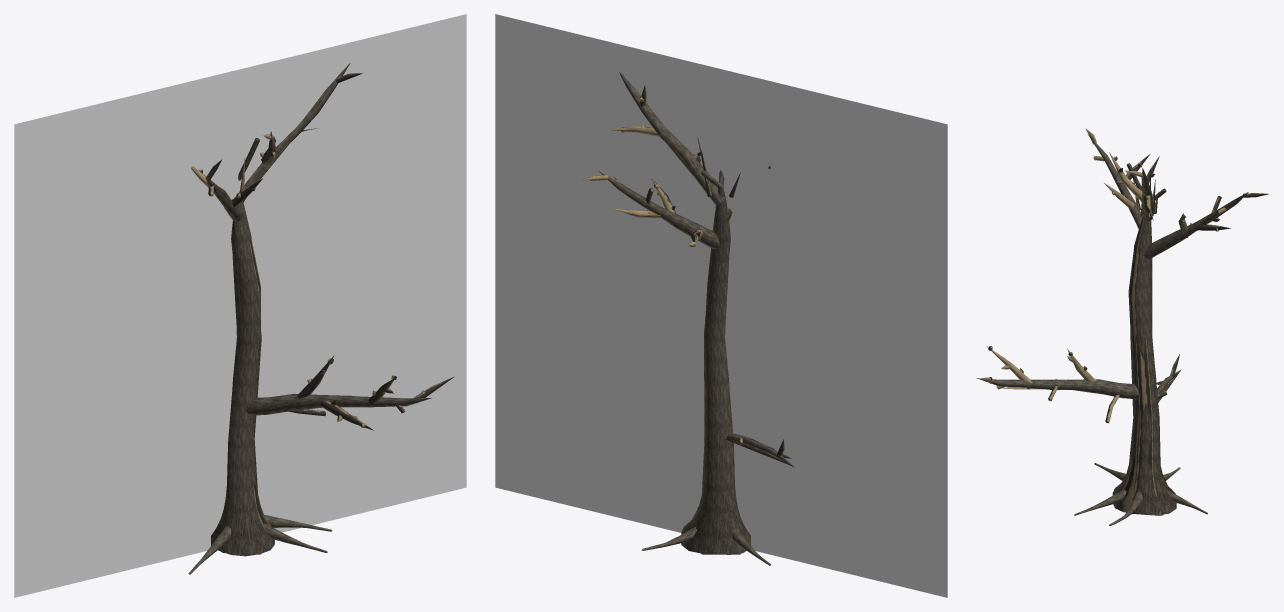
File: foudroye_adulte_b.fbx
3 renders of one model, left to right at view 1: azimuth 30°, elevation 25°; view 2: azimuth 150°, elevation 25°; view 3: azimuth 270°, elevation 25°, orthographic. The views are drawn at different scales.
Parts seen in each view (by area): view 1: foudroye_adulte_b_LOD3, foudroye_adulte_b_LOD1, foudroye_adulte_b_LOD2; view 2: foudroye_adulte_b_LOD3, foudroye_adulte_b_LOD1, foudroye_adulte_b_LOD2; view 3: foudroye_adulte_b_LOD1, foudroye_adulte_b_LOD2.
Part boxes in pixels (<box>): foudroye_adulte_b_LOD3: <box>14,14,466,597</box>; foudroye_adulte_b_LOD1: <box>189,63,454,574</box>; foudroye_adulte_b_LOD2: <box>188,66,453,573</box>; foudroye_adulte_b_LOD3: <box>495,14,947,597</box>; foudroye_adulte_b_LOD1: <box>582,72,793,565</box>; foudroye_adulte_b_LOD2: <box>586,84,792,565</box>; foudroye_adulte_b_LOD1: <box>976,128,1268,525</box>; foudroye_adulte_b_LOD2: <box>977,129,1267,525</box>.
Size of what is drawn, in the model's own units: 13.99 by 13.99 by 9.33.
